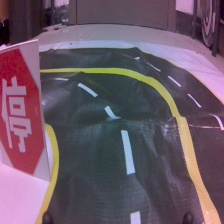stop: (1, 41, 52, 180)
